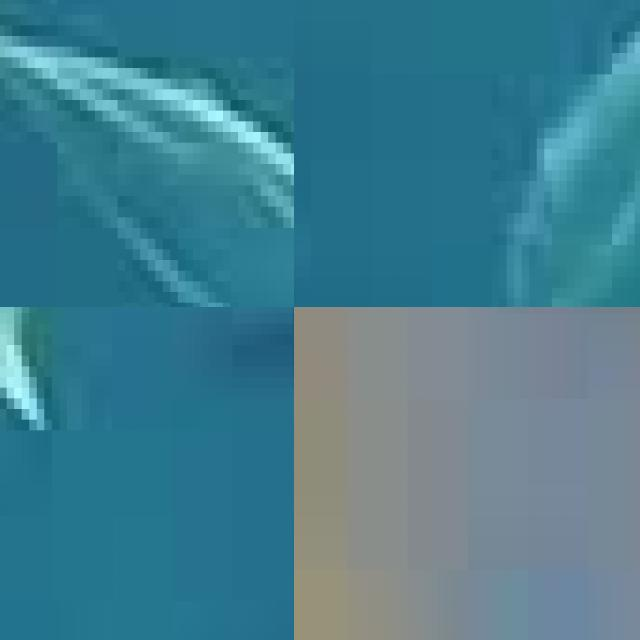fish: (294, 307, 640, 569), (0, 0, 294, 307)
